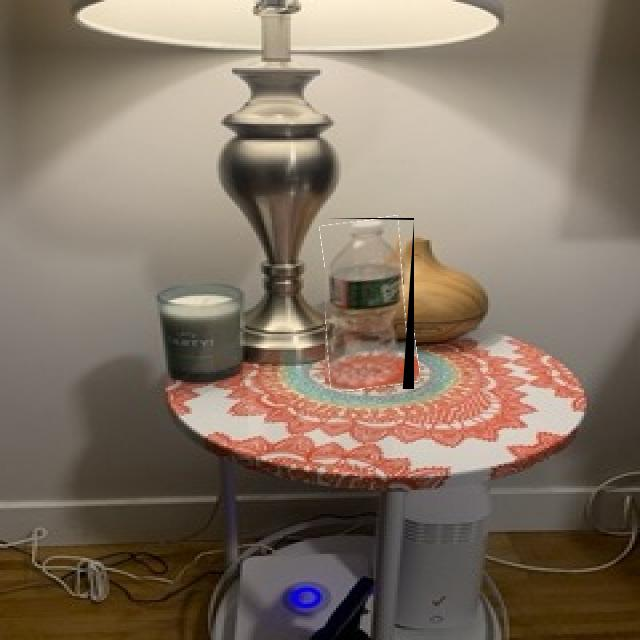water_bottle: (325, 218, 414, 389)
